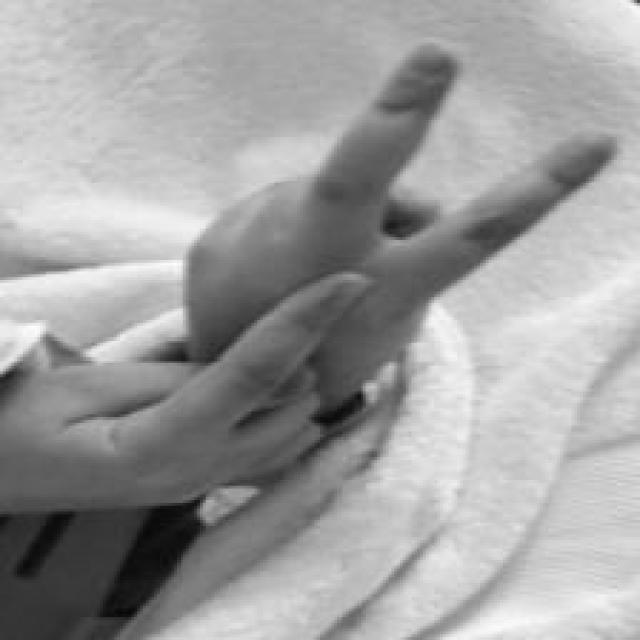Y: (1, 45, 619, 513)
